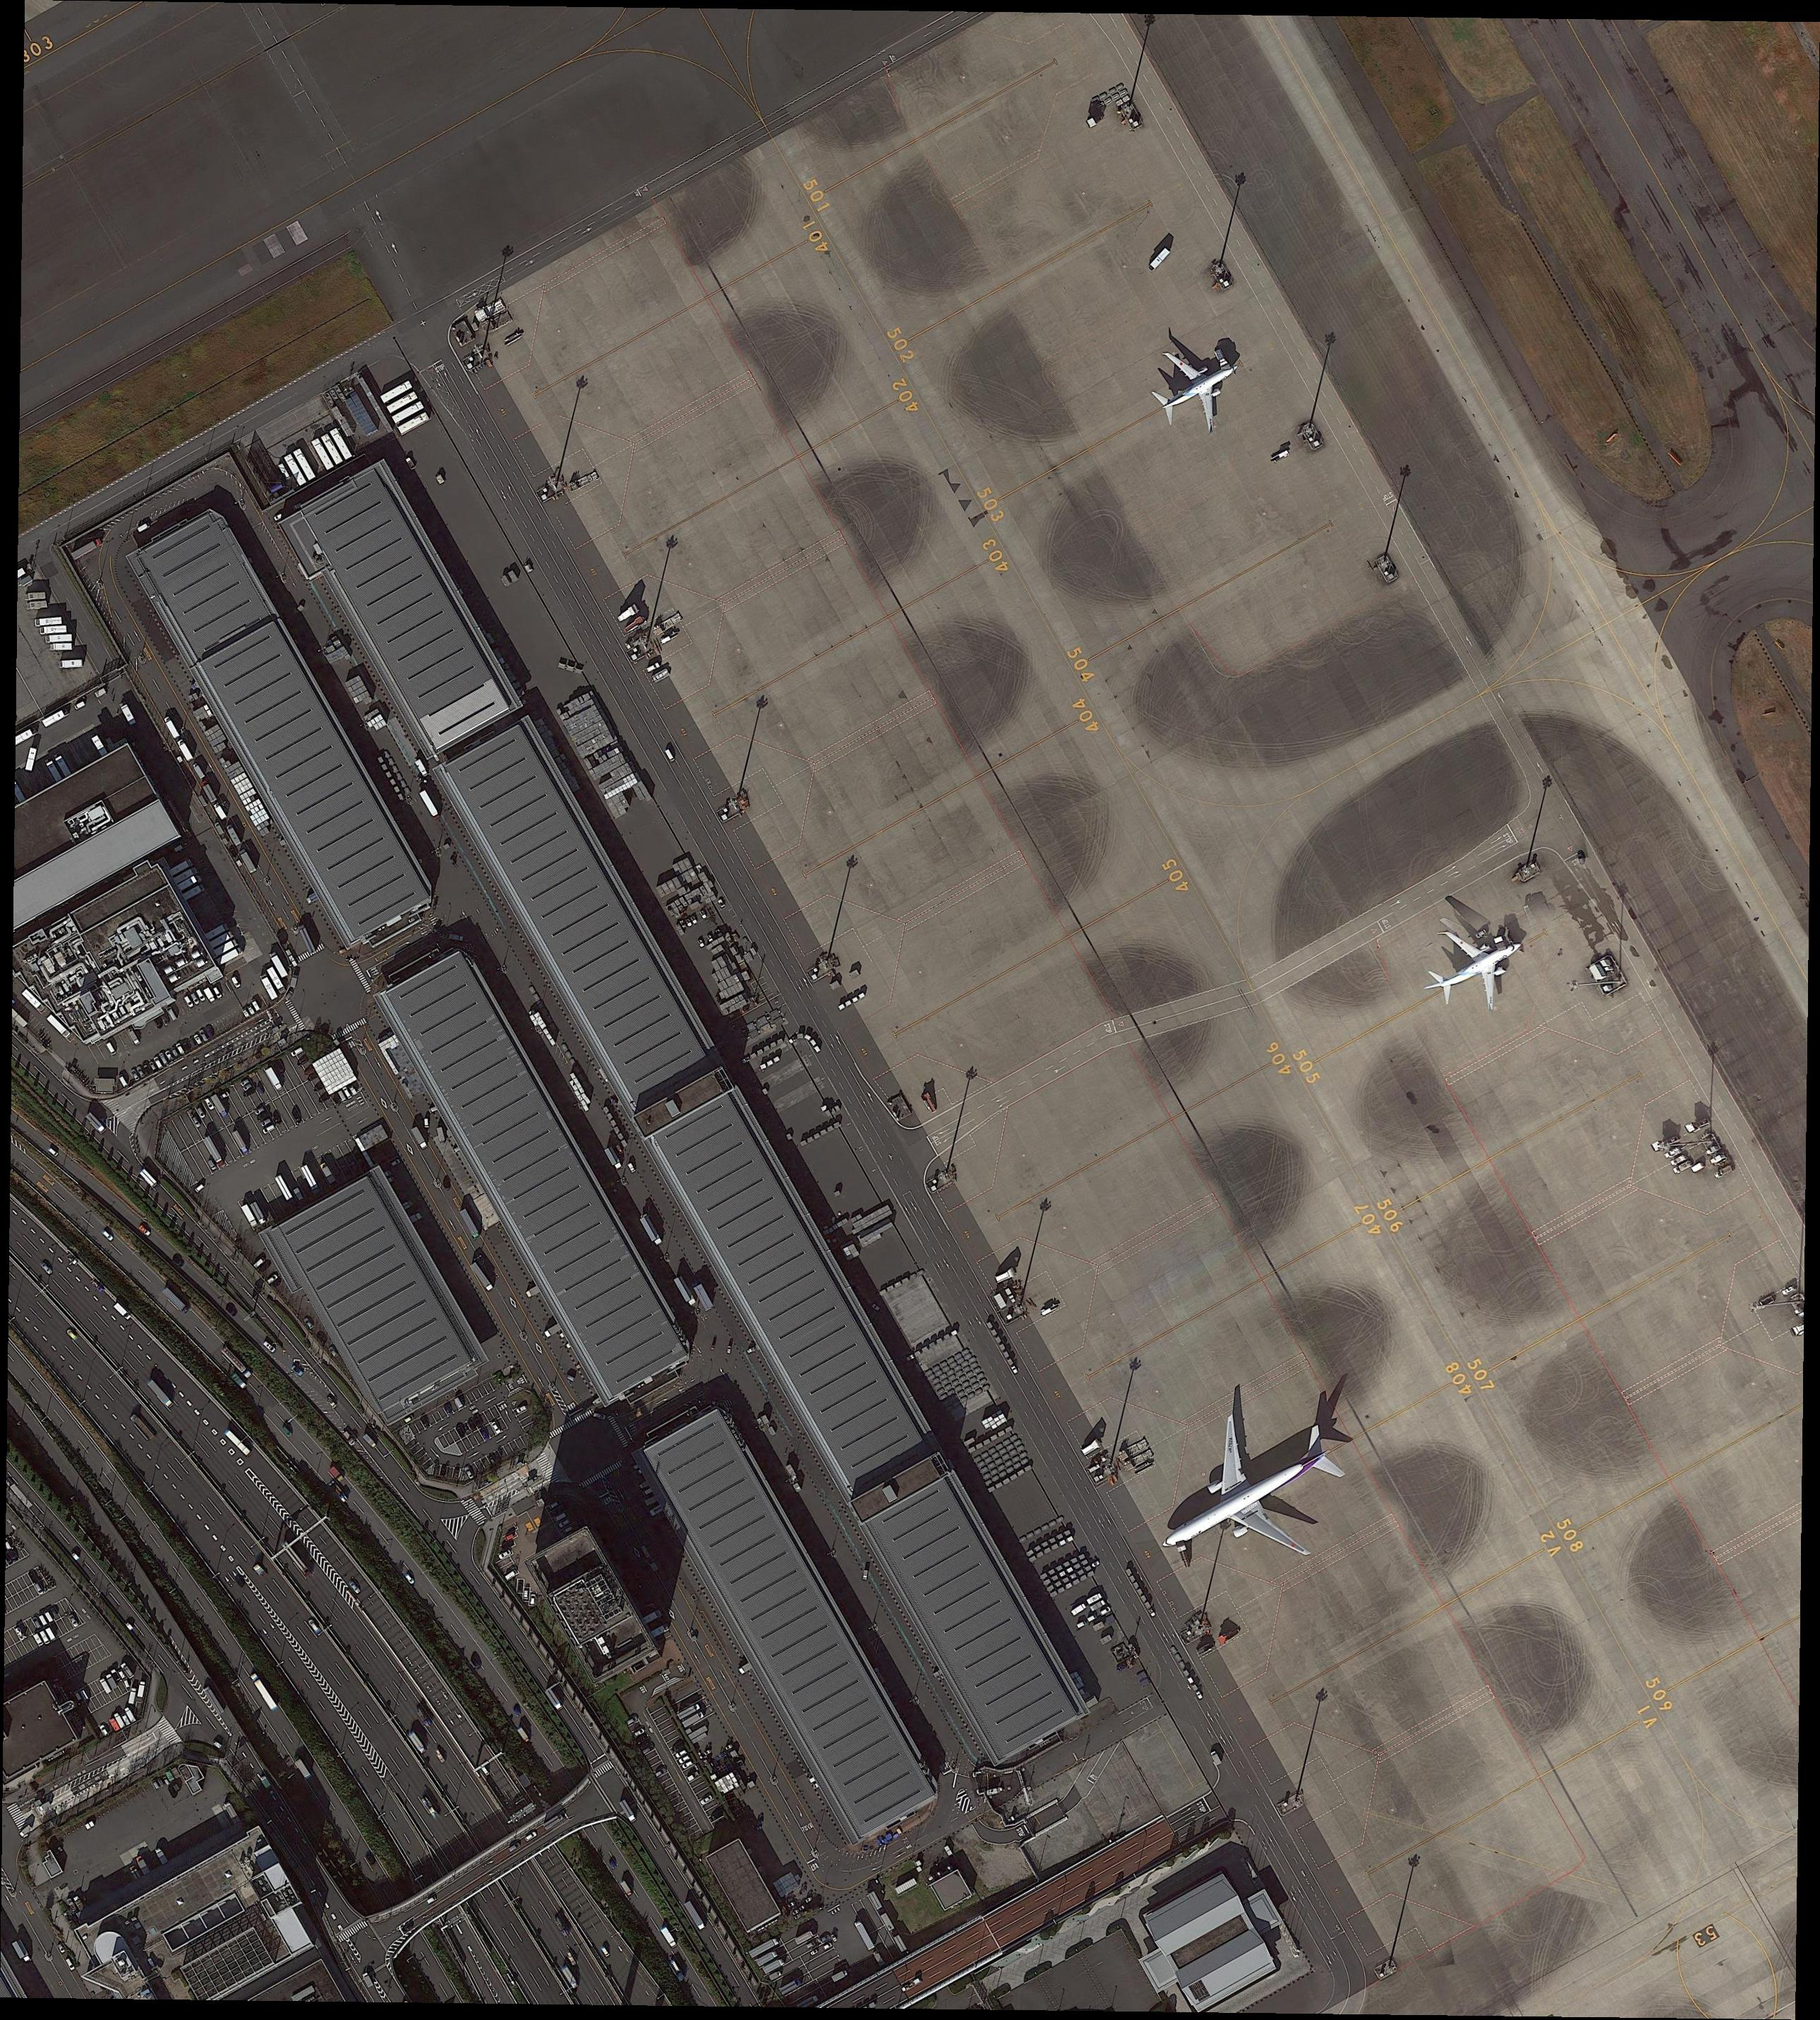plane: (1119, 1365, 1400, 1621), (1404, 892, 1546, 1038), (1124, 316, 1265, 458)
